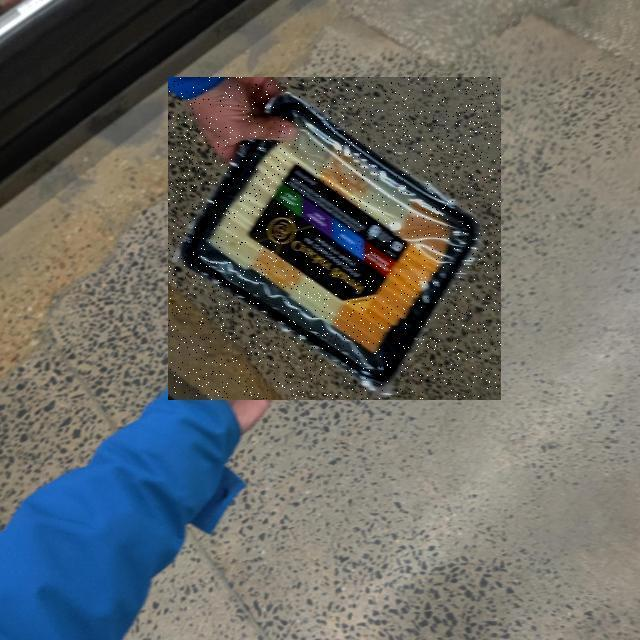cheese: (0, 200, 418, 600)
